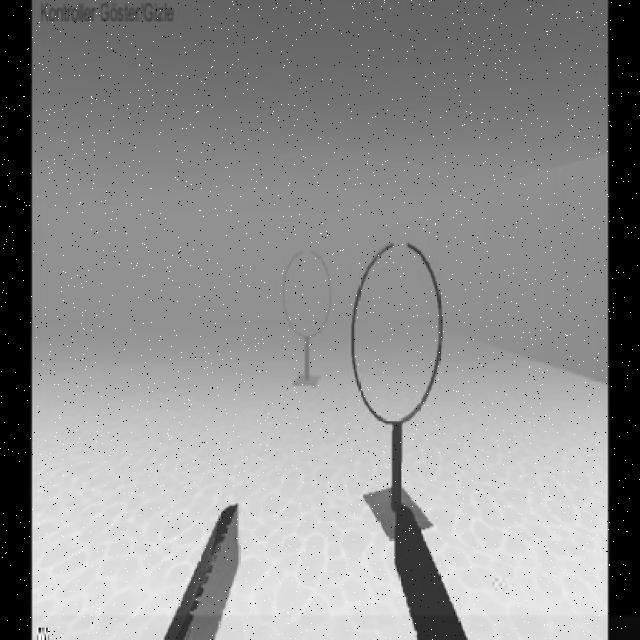Circle: (348, 238, 448, 428), (278, 245, 336, 342)
